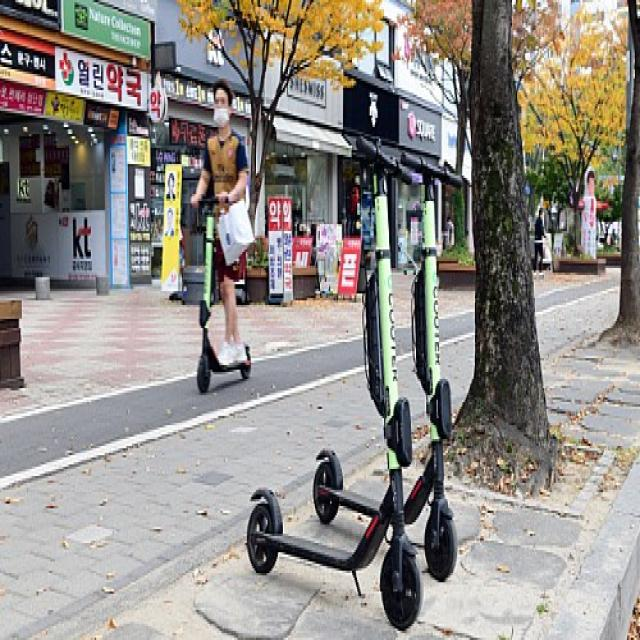non-helmet: (172, 45, 274, 408)
